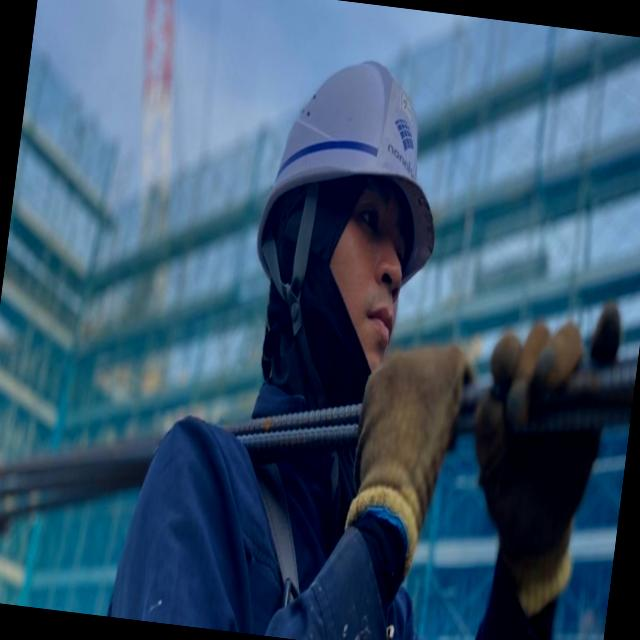helmet: (270, 50, 442, 196)
no-goggles: (308, 184, 422, 276)
